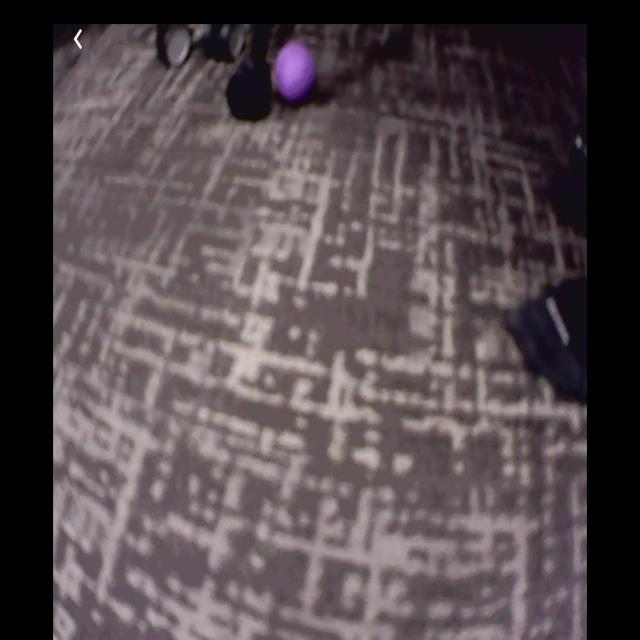ball: (276, 41, 314, 98)
